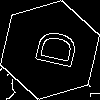D: (25, 25, 79, 71)
